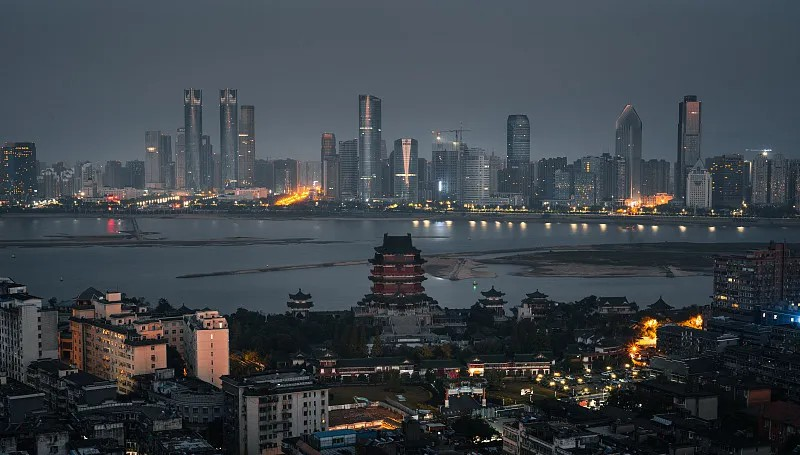Teng: (359, 233, 440, 312)
